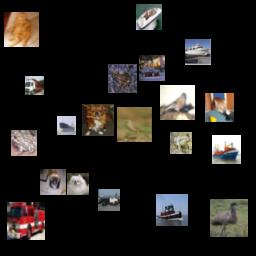automobile: (139, 55, 165, 81)
bird: (210, 199, 248, 237), (160, 85, 195, 120), (117, 107, 152, 142)
cat: (4, 12, 39, 47), (205, 93, 234, 122)
dog: (82, 104, 114, 136), (40, 169, 66, 195), (67, 173, 89, 195)
frog: (108, 64, 137, 93), (11, 130, 37, 156), (170, 132, 192, 154)
ship: (156, 194, 188, 226), (212, 135, 241, 164), (136, 4, 162, 30), (185, 39, 211, 65), (57, 116, 76, 135)
truck: (7, 202, 45, 240), (98, 189, 120, 211), (25, 76, 44, 95)
